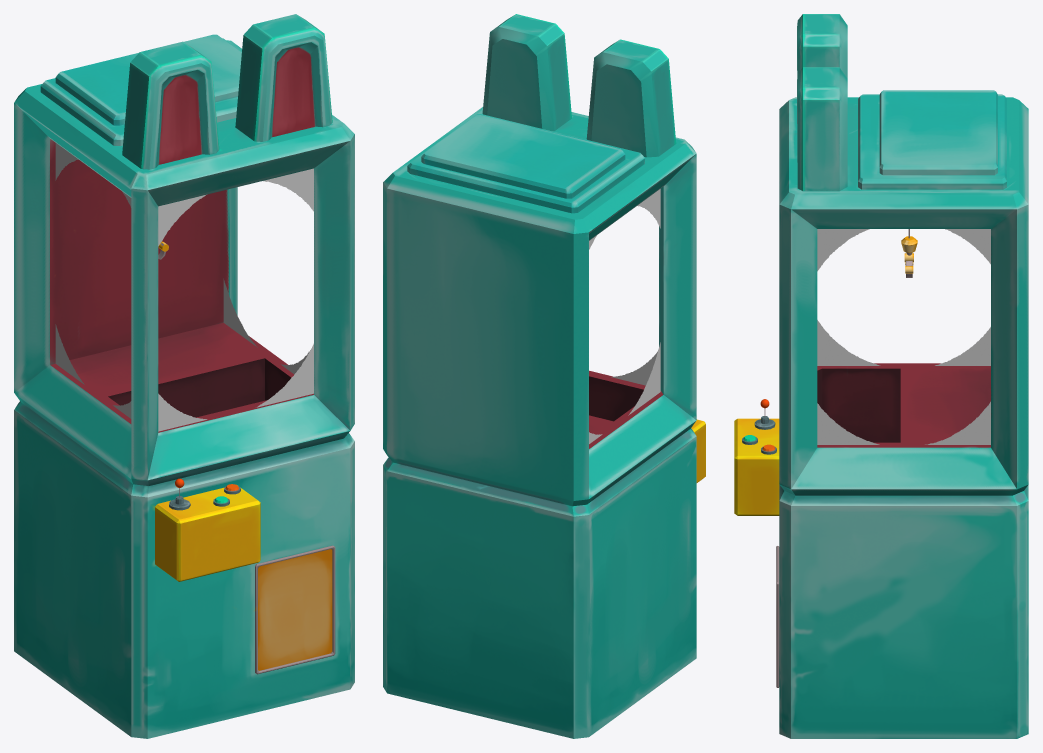
File: inheung2.fbx
3 views of the same model, side by side, from view 1: azimuth 30°, elevation 25°; view 2: azimuth 150°, elevation 25°; view 3: azimuth 270°, elevation 25° (orthographic). The views are drawn at different scales.
Visible parts, largest first — view 1: Object004; view 2: Object004; view 3: Object004.
Part boxes in pixels (x1,y1,x2,y2): Object004: [14, 14, 354, 738]; Object004: [383, 14, 705, 738]; Object004: [734, 14, 1028, 738].
Size of the model in its own units: 75 by 211 by 88.61.
